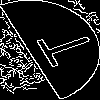T: (24, 25, 98, 72)
